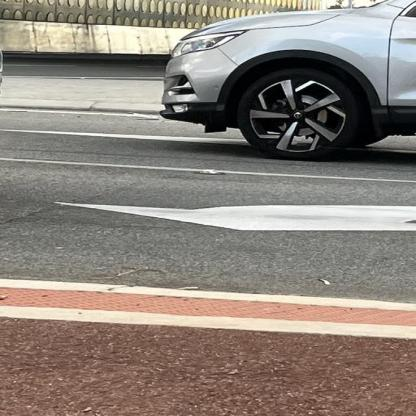Tire: (237, 68, 364, 161)
